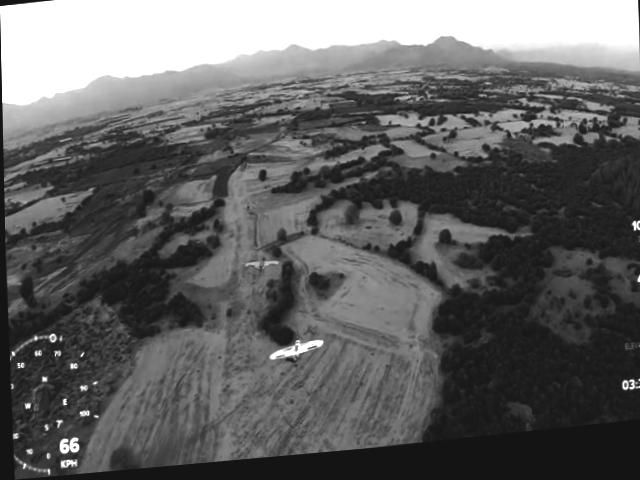hedef: (264, 327, 330, 382), (237, 252, 283, 283)
